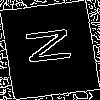N: (24, 24, 83, 67)
